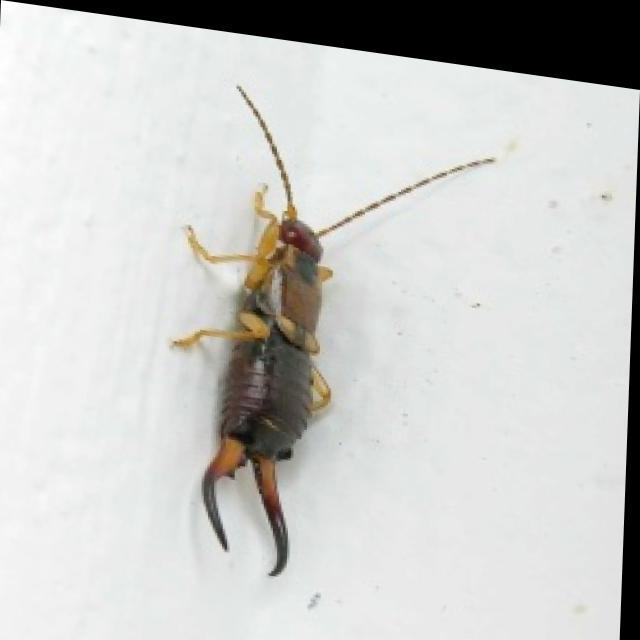cockroach: (165, 81, 504, 580)
